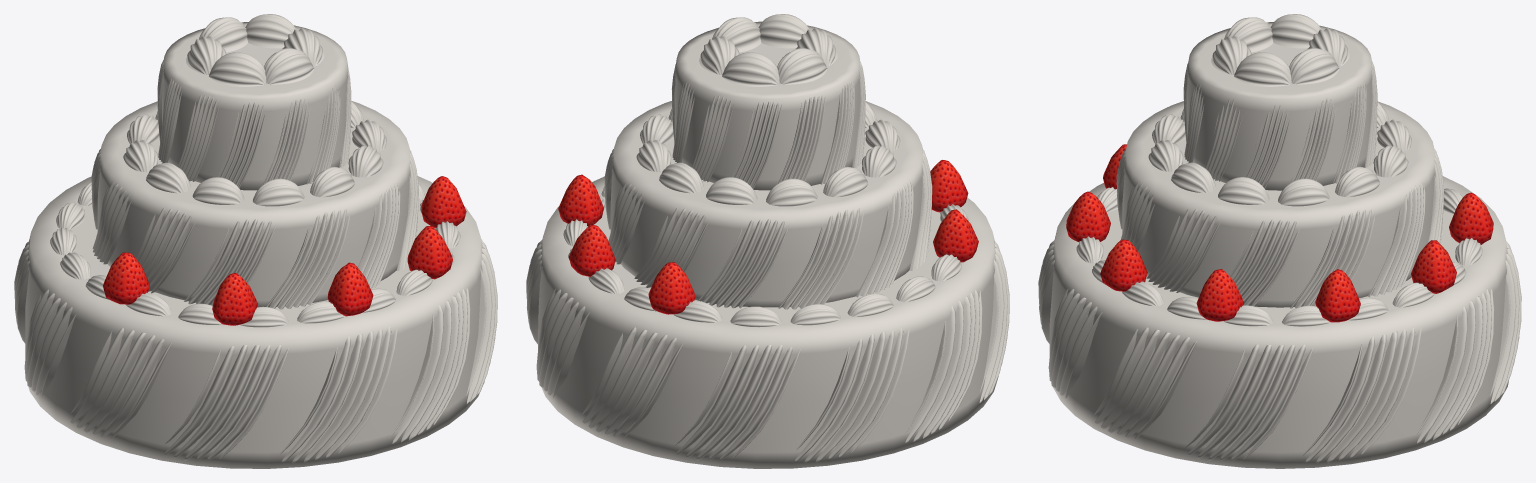
3 renders of one model, left to right at view 1: azimuth 30°, elevation 25°; view 2: azimuth 150°, elevation 25°; view 3: azimuth 270°, elevation 25°, orthographic.
Parts seen in each view (by area): view 1: pSphere9; view 2: pSphere9; view 3: pSphere9.
Boxes of the visible parts, bbox=[...] form: pSphere9: bbox=[14, 14, 497, 468]; pSphere9: bbox=[526, 14, 1009, 468]; pSphere9: bbox=[1038, 14, 1521, 468].
Bounding box in the file's own units: 32.56 × 25.1 × 32.56.
